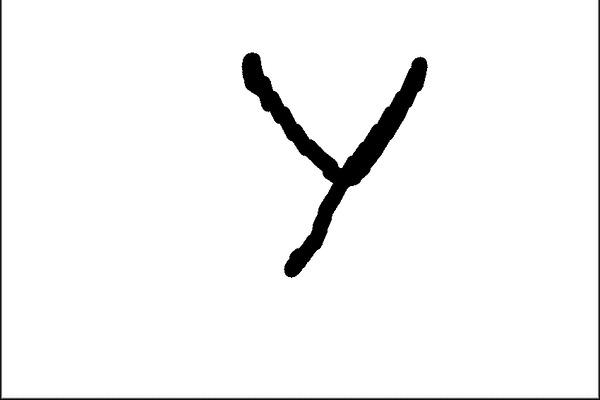Y: (205, 41, 441, 289)
